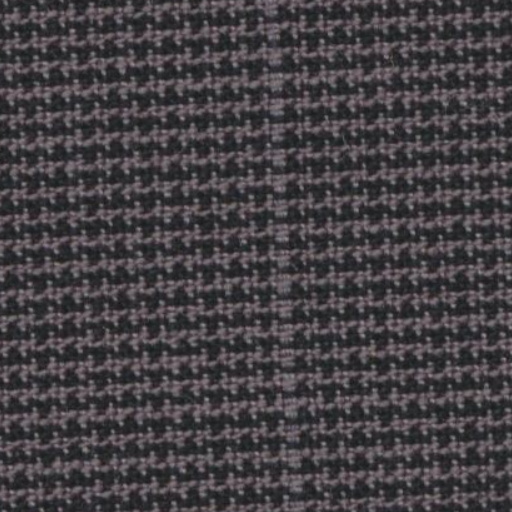TuoSha: (234, 6, 332, 504)
